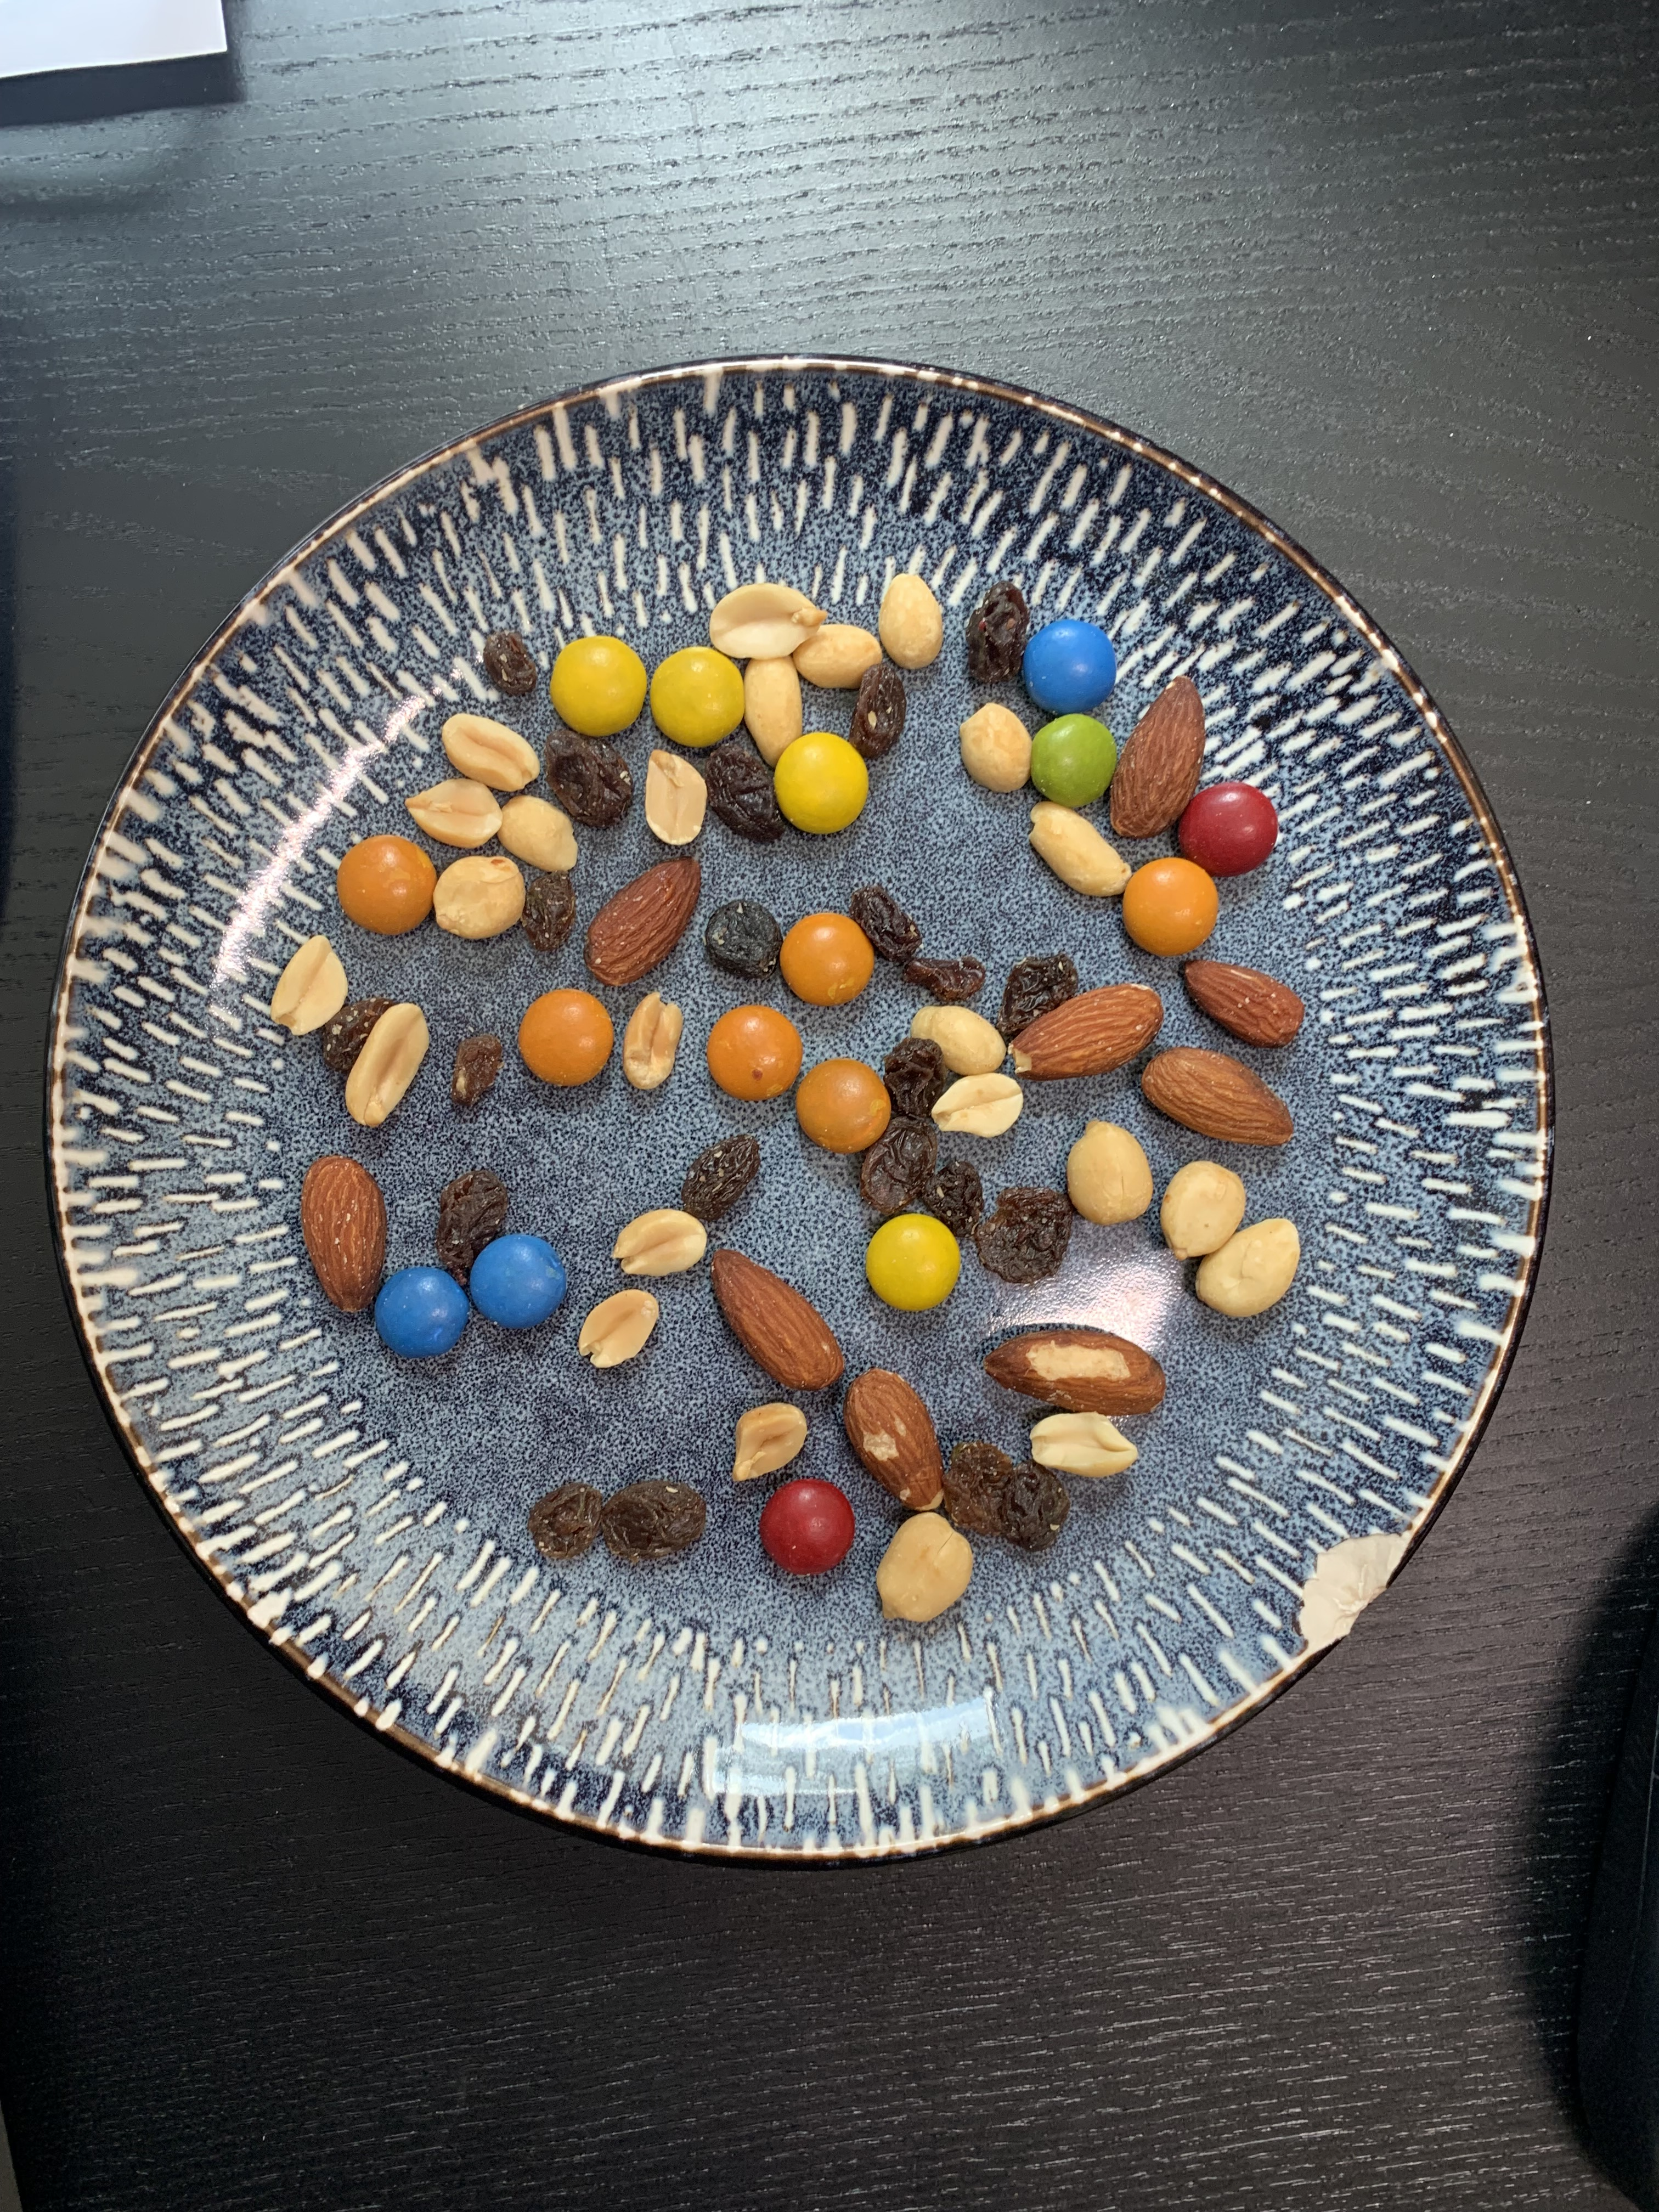almond: (709, 1247, 842, 1393), (1110, 674, 1206, 838), (586, 855, 702, 986), (1011, 982, 1164, 1082), (1143, 1047, 1297, 1146), (985, 1329, 1166, 1413), (843, 1367, 945, 1512), (298, 1157, 385, 1317), (1183, 960, 1304, 1050)
mm: (549, 634, 648, 738), (338, 834, 437, 939), (774, 730, 870, 838), (648, 644, 746, 747), (516, 988, 613, 1087), (864, 1214, 962, 1313), (1122, 857, 1220, 956), (1178, 780, 1279, 876), (706, 1003, 803, 1101), (472, 1231, 568, 1331), (795, 1059, 894, 1153), (1023, 620, 1115, 718), (781, 913, 875, 1007), (375, 1264, 469, 1357), (762, 1480, 854, 1575), (1032, 712, 1121, 806)
peanut: (1194, 1217, 1300, 1320), (345, 1003, 430, 1129), (877, 1512, 972, 1623), (1028, 801, 1131, 899), (1066, 1118, 1154, 1224), (709, 582, 826, 658), (1161, 1160, 1246, 1264), (270, 934, 349, 1038), (439, 712, 540, 791), (434, 855, 525, 942), (1030, 1411, 1140, 1480), (404, 777, 502, 850), (744, 650, 803, 770), (958, 702, 1035, 794), (577, 1289, 659, 1371), (908, 1005, 1006, 1073), (613, 1209, 706, 1278), (643, 747, 708, 846), (497, 796, 579, 873), (878, 573, 943, 669), (624, 991, 685, 1092), (730, 1402, 807, 1482), (793, 624, 885, 688), (932, 1073, 1023, 1137)
raisin: (542, 726, 636, 827), (979, 1186, 1073, 1284), (706, 742, 786, 845), (437, 1170, 509, 1285), (599, 1480, 704, 1559), (861, 1116, 941, 1217), (678, 1132, 760, 1219), (964, 580, 1028, 686), (1000, 953, 1080, 1038), (943, 1440, 1012, 1533), (704, 899, 782, 981), (1002, 1461, 1068, 1552), (528, 1482, 603, 1559), (322, 998, 403, 1069), (849, 662, 908, 758), (849, 887, 922, 961), (882, 1038, 945, 1120), (519, 869, 577, 951), (925, 1160, 985, 1237), (901, 954, 986, 1001), (450, 1031, 500, 1104), (486, 632, 537, 693)
